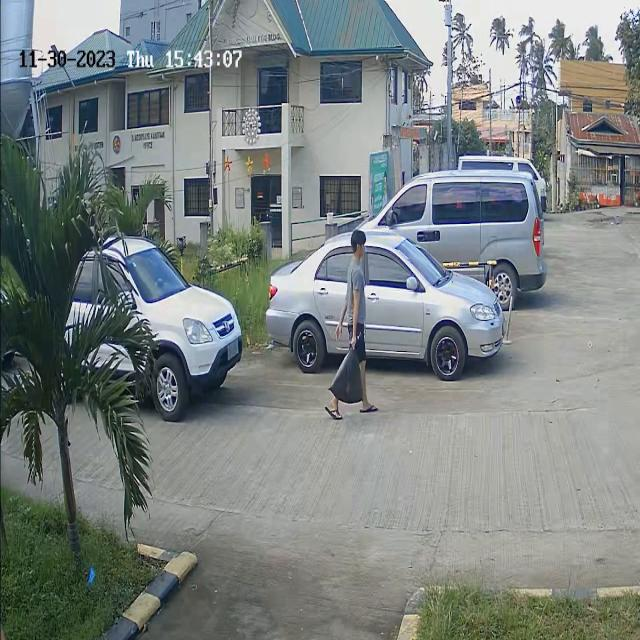human: (346, 236, 367, 340)
trash: (323, 342, 370, 409)
